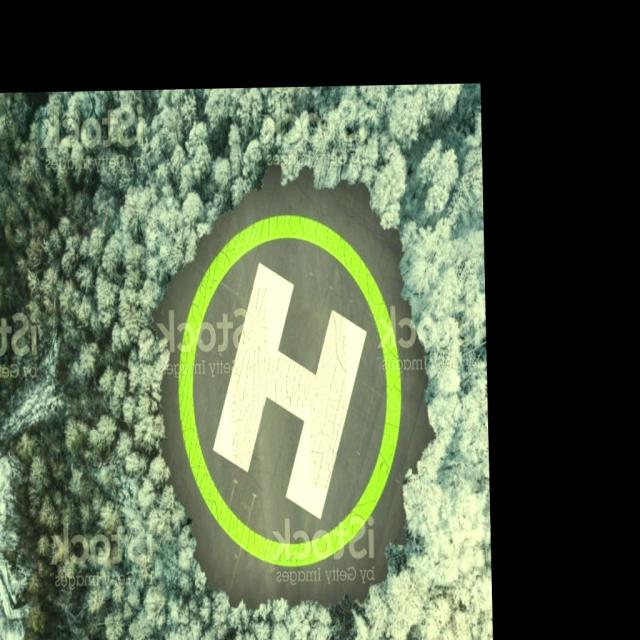helipad: (171, 208, 408, 576)
